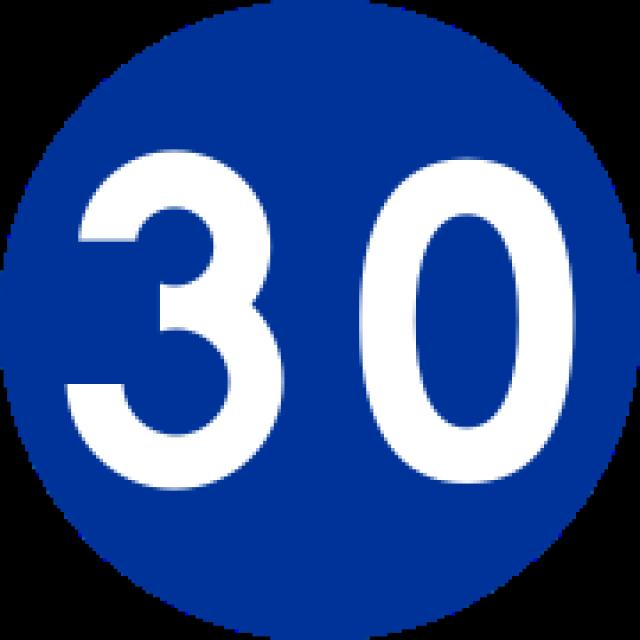Speed Limit -30-: (64, 141, 582, 504)
